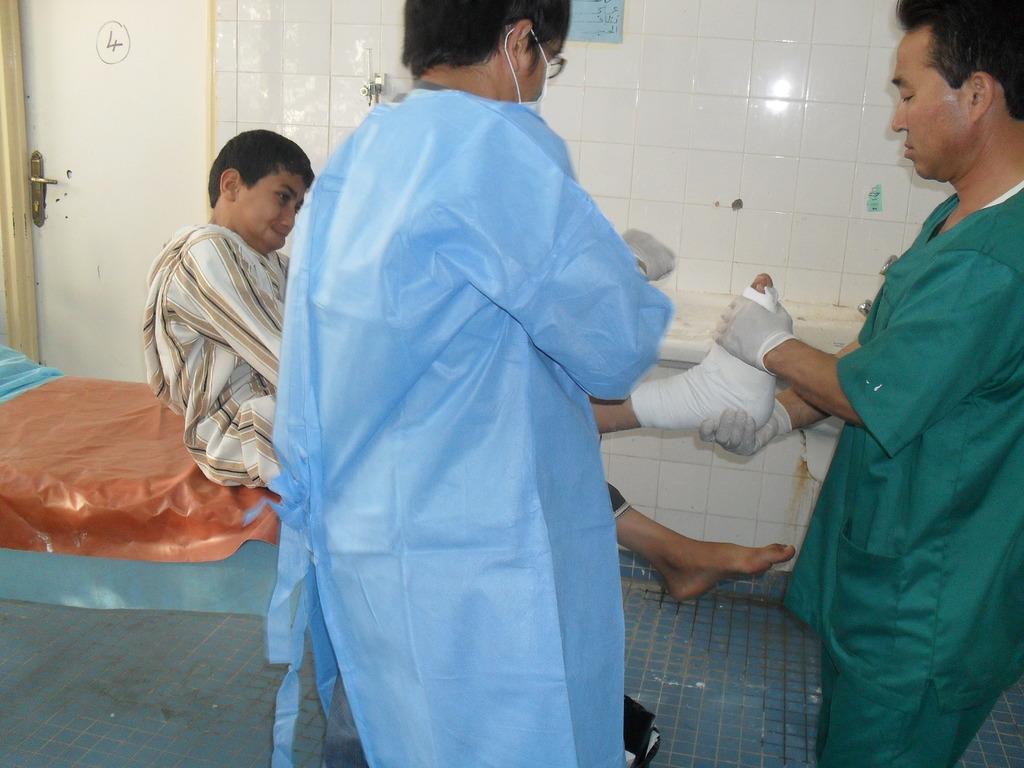Person: (115, 97, 832, 666), (260, 0, 677, 768), (690, 0, 1024, 768)
